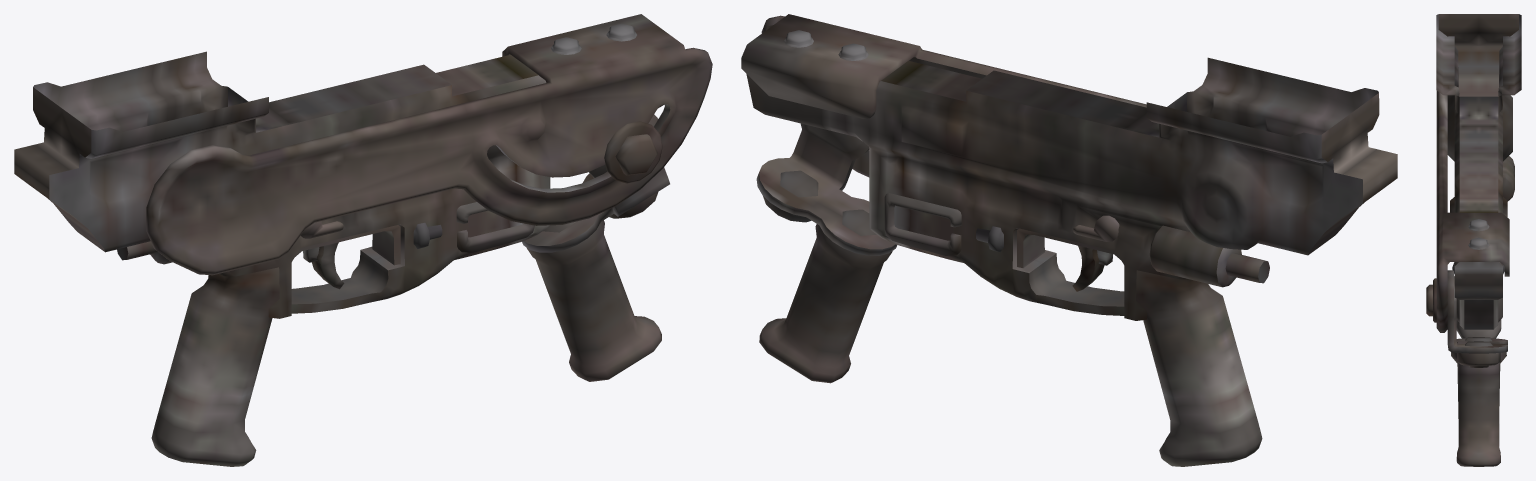
The model's file is HeavyWeapons_Vladof_Grip_2.obj.
3 renders of one model, left to right at view 1: azimuth 30°, elevation 25°; view 2: azimuth 150°, elevation 25°; view 3: azimuth 270°, elevation 25°, orthographic. The views are drawn at different scales.
Visible parts, largest first — view 1: SK_HW_VLA.286, SK_HW_VLA.292, SK_HW_VLA.294, SK_HW_VLA.289, SK_HW_VLA.291, SK_HW_VLA.301, SK_HW_VLA.288; view 2: SK_HW_VLA.286, SK_HW_VLA.292, SK_HW_VLA.294, SK_HW_VLA.289, SK_HW_VLA.293, SK_HW_VLA.288, SK_HW_VLA.297, SK_HW_VLA.295; view 3: SK_HW_VLA.286, SK_HW_VLA.292, SK_HW_VLA.294, SK_HW_VLA.289, SK_HW_VLA.287, SK_HW_VLA.293, SK_HW_VLA.301, SK_HW_VLA.298, SK_HW_VLA.300, SK_HW_VLA.291, SK_HW_VLA.297, SK_HW_VLA.299.
Part boxes in pixels (x1,y1,x2,y2): SK_HW_VLA.286: [14, 51, 664, 466]; SK_HW_VLA.292: [146, 14, 712, 275]; SK_HW_VLA.294: [527, 220, 661, 381]; SK_HW_VLA.289: [522, 114, 669, 252]; SK_HW_VLA.291: [604, 121, 662, 183]; SK_HW_VLA.301: [615, 134, 657, 175]; SK_HW_VLA.288: [303, 242, 344, 289]; SK_HW_VLA.286: [746, 57, 1397, 466]; SK_HW_VLA.292: [741, 14, 1146, 177]; SK_HW_VLA.294: [759, 224, 892, 383]; SK_HW_VLA.289: [756, 123, 897, 255]; SK_HW_VLA.293: [1149, 225, 1269, 287]; SK_HW_VLA.288: [1072, 245, 1112, 291]; SK_HW_VLA.297: [780, 170, 818, 197]; SK_HW_VLA.295: [1073, 215, 1119, 241]; SK_HW_VLA.286: [1436, 14, 1521, 338]; SK_HW_VLA.292: [1436, 90, 1509, 332]; SK_HW_VLA.294: [1451, 352, 1506, 466]; SK_HW_VLA.289: [1447, 270, 1507, 353]; SK_HW_VLA.287: [1457, 353, 1500, 367]; SK_HW_VLA.293: [1503, 156, 1514, 201]; SK_HW_VLA.301: [1426, 284, 1432, 316]; SK_HW_VLA.298: [1468, 237, 1489, 249]; SK_HW_VLA.300: [1468, 219, 1489, 231]; SK_HW_VLA.291: [1433, 278, 1436, 322]; SK_HW_VLA.297: [1465, 341, 1492, 346]; SK_HW_VLA.299: [1465, 337, 1492, 341].
Size of the model in its own units: 43.82 by 25.42 by 8.03.
